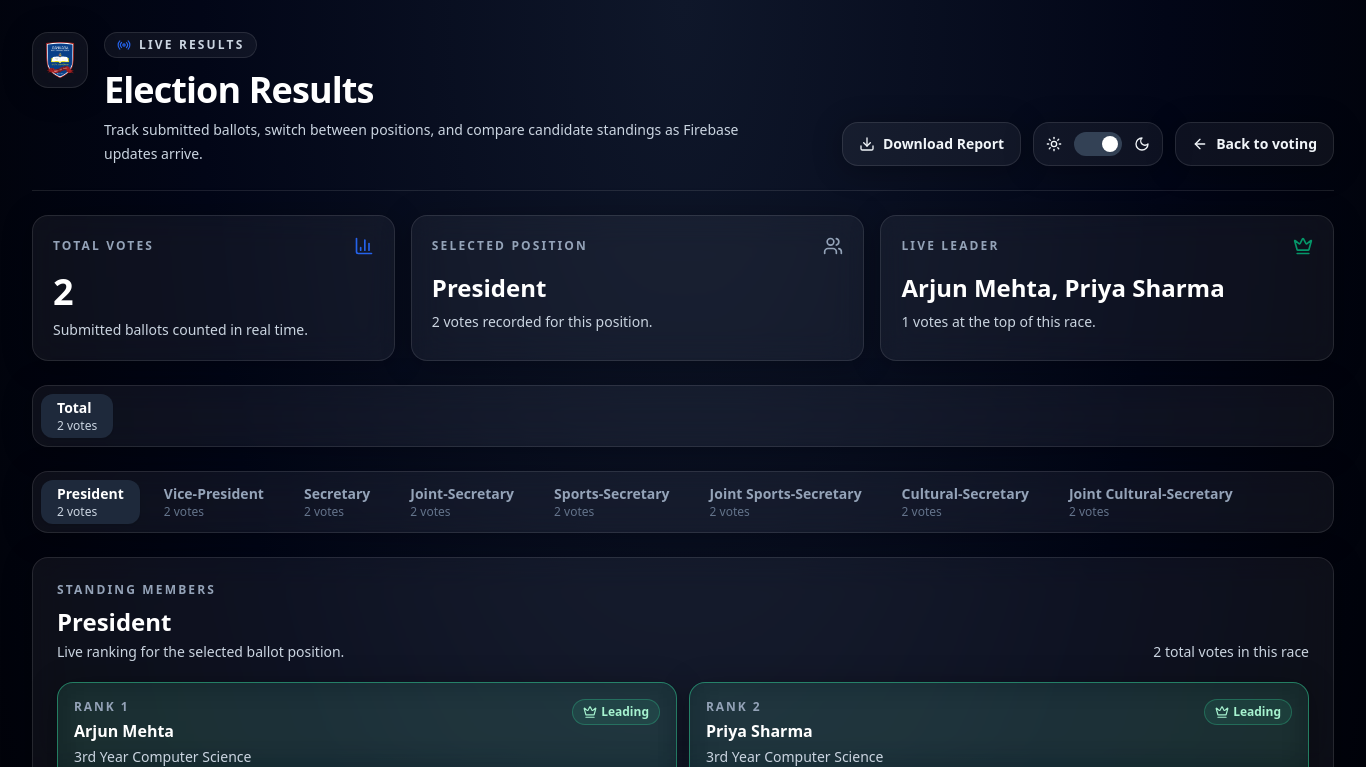
it: ResultsDashboard › reacts to later snapshot updates and handles ties across positions
The width and height of the screenshot is (1366, 767).
Click the button "Vice-President 2 votes": (214, 502) [148,480,280,524]
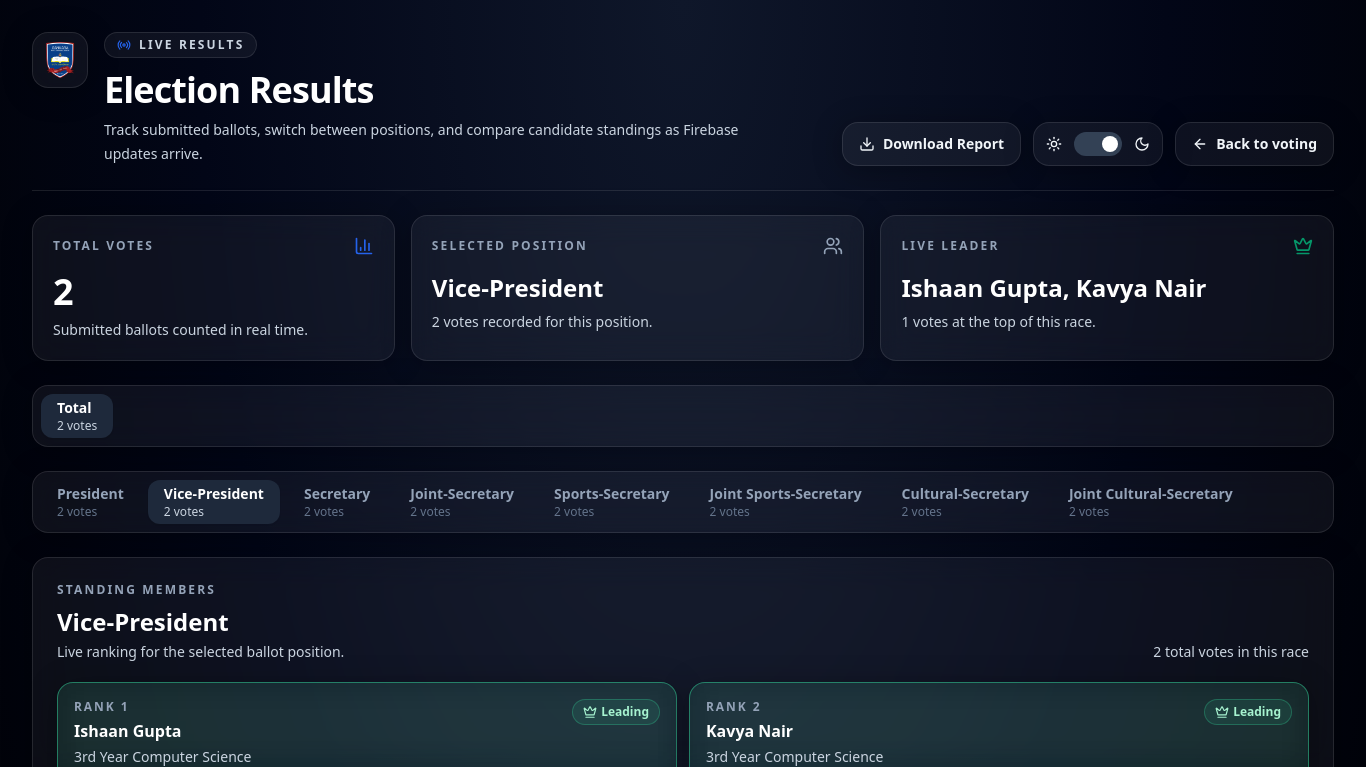
Expected: the number of headings "Vice-President" is 2, [432,271,604,304]; [57,605,229,638]
Expected: the heading "Kavya Nair" is shown, [706,720,793,742]
Expected: the heading "Ishaan Gupta" is shown, [74,720,182,742]
